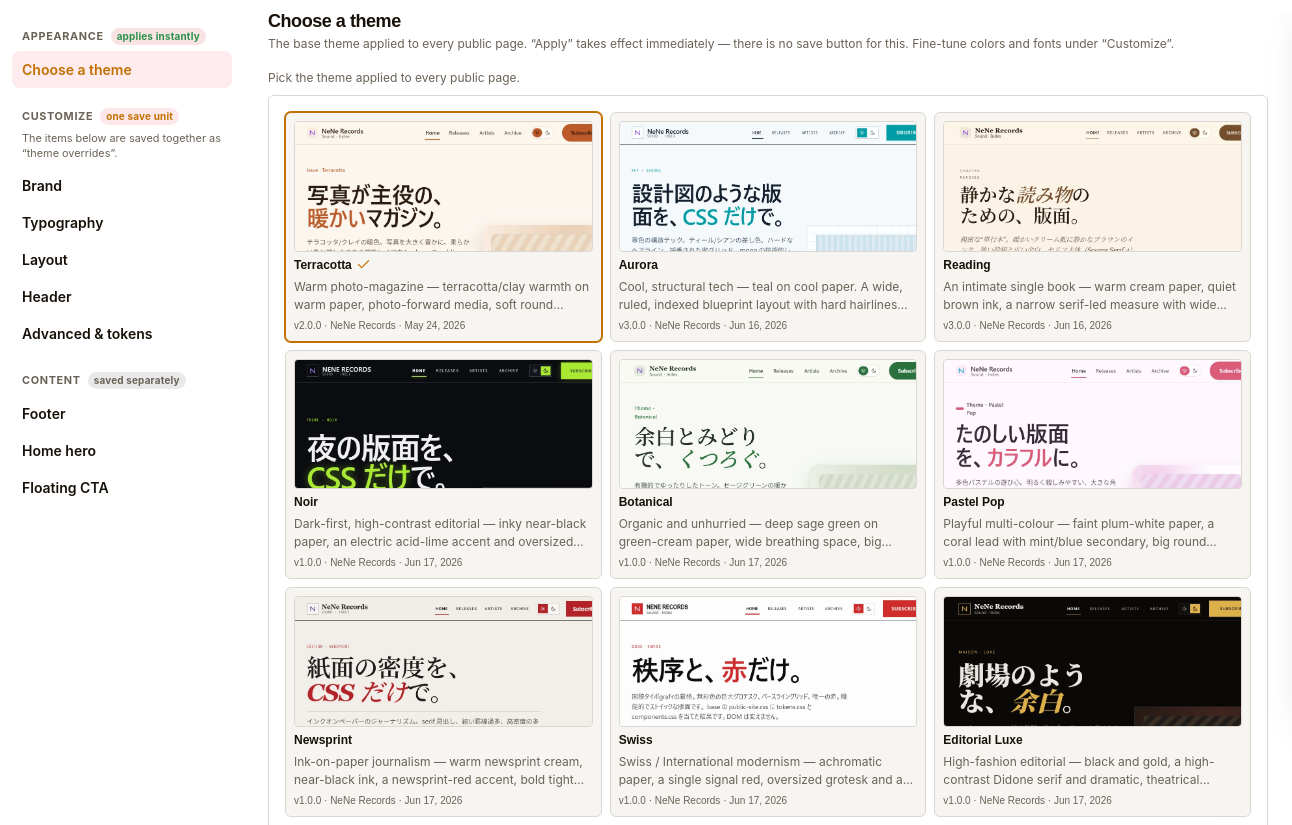
it: ThemeWorkspace (#787 IA redesign) › opens on the theme picker and switches panels via the nav
This screenshot has width=1292, height=825.
Check: the heading "Choose a theme" is shown, box [268,11,401,31]
Click the button "Brand".
click(122, 186)  # box [12,167,232,204]
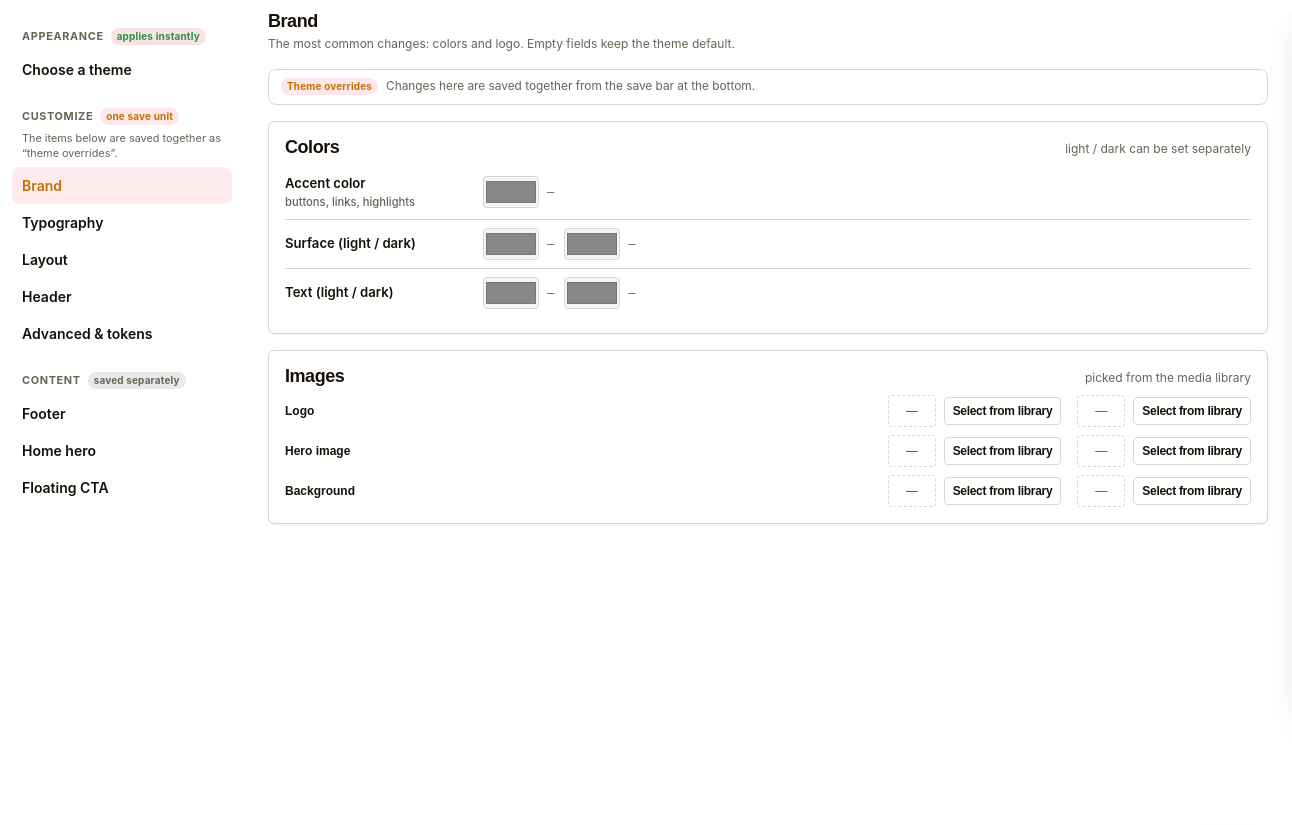
Check: the heading "Colors" is shown, box [285,138,339,157]
